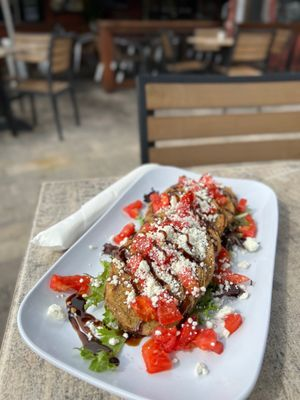sushi: (0, 169, 281, 399)
